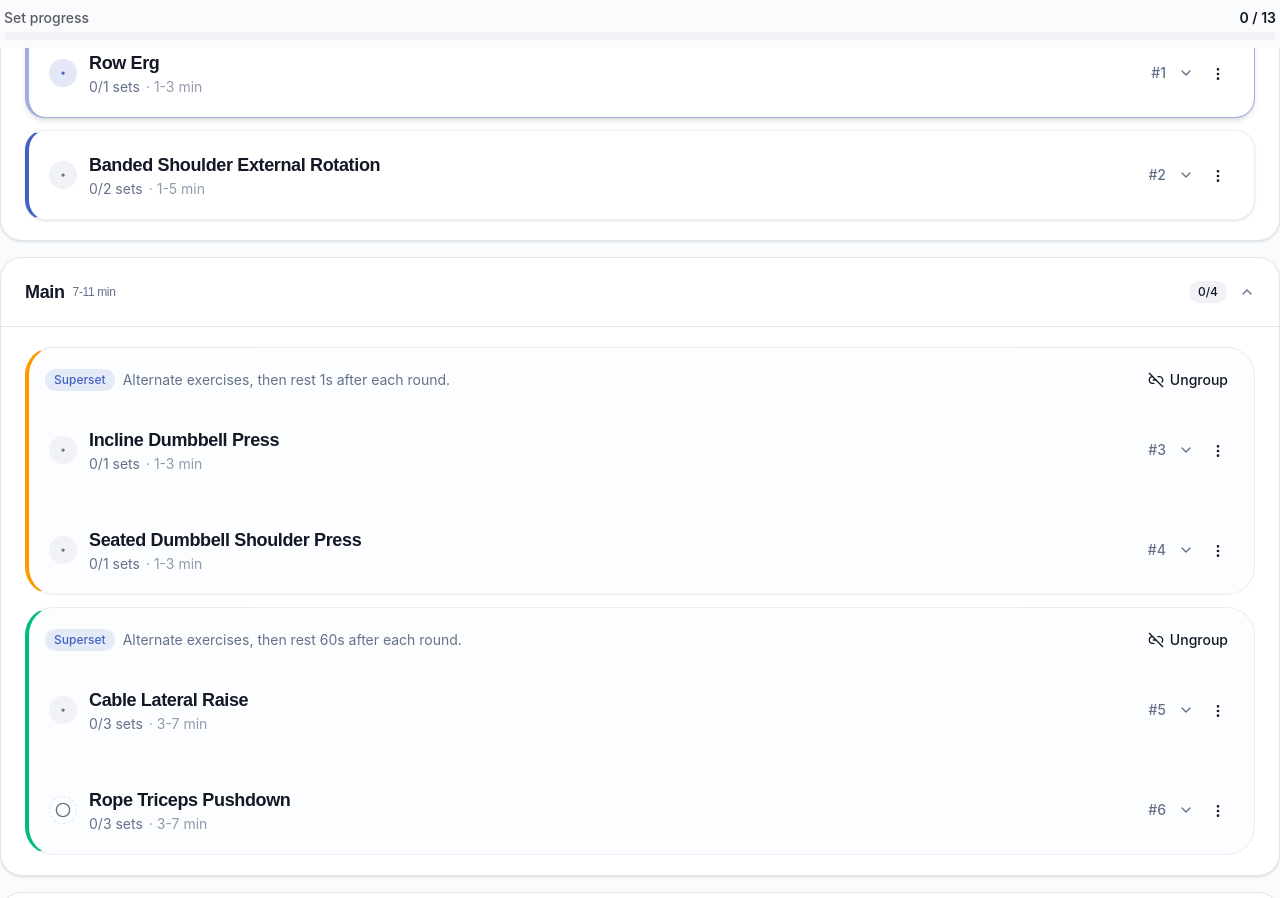
Test case: ActiveWorkoutPage › keeps focus unchanged when a superset rest timer expires
(page scrolled)
Click the button "Incline Dumbbell Press 0/1 sets· 1-3 min #3". click: [184, 440]
box: [49,430,1234,472]
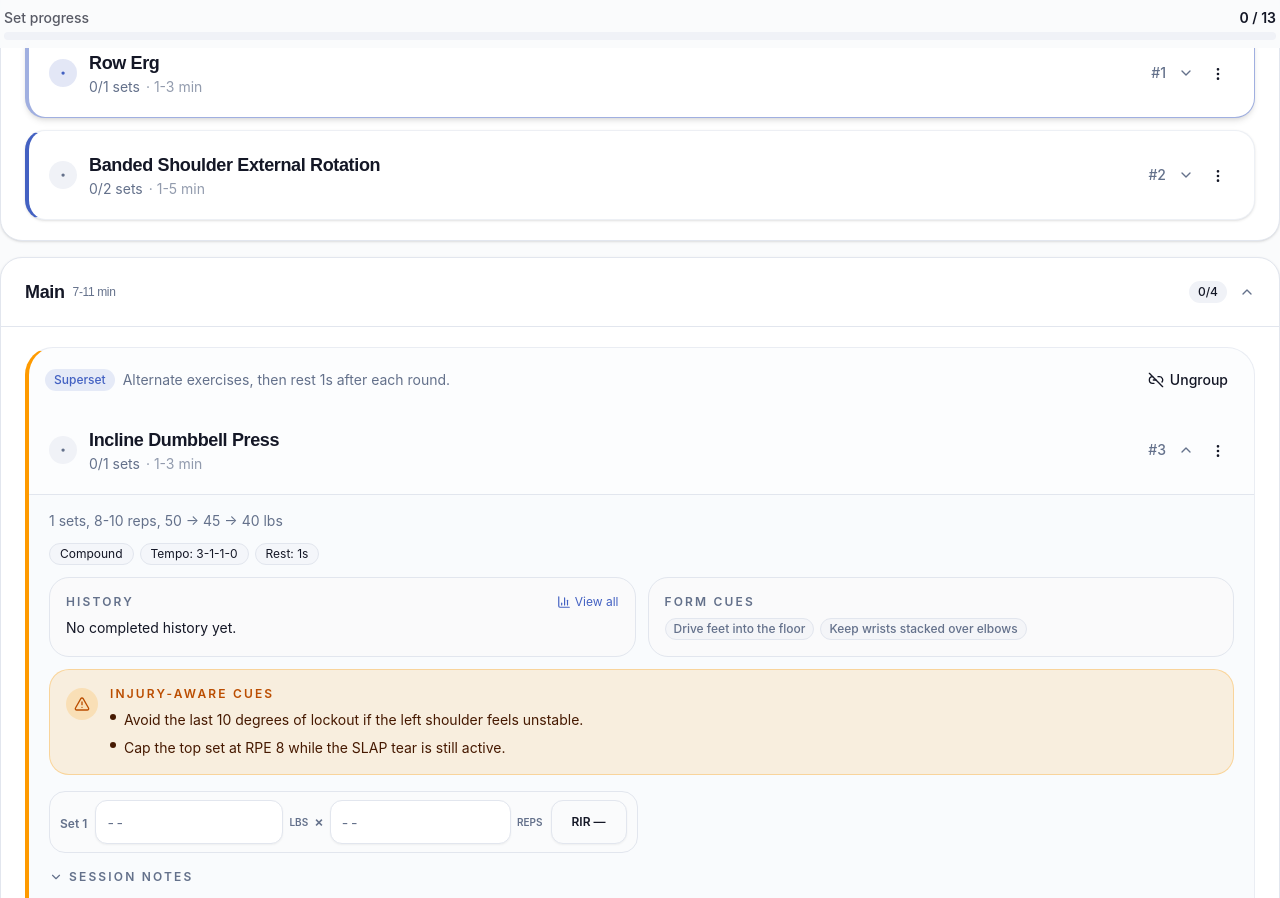
Type "50" into the number field named "Weight for set 1". click: [189, 822]
box: [95,800,283,844]
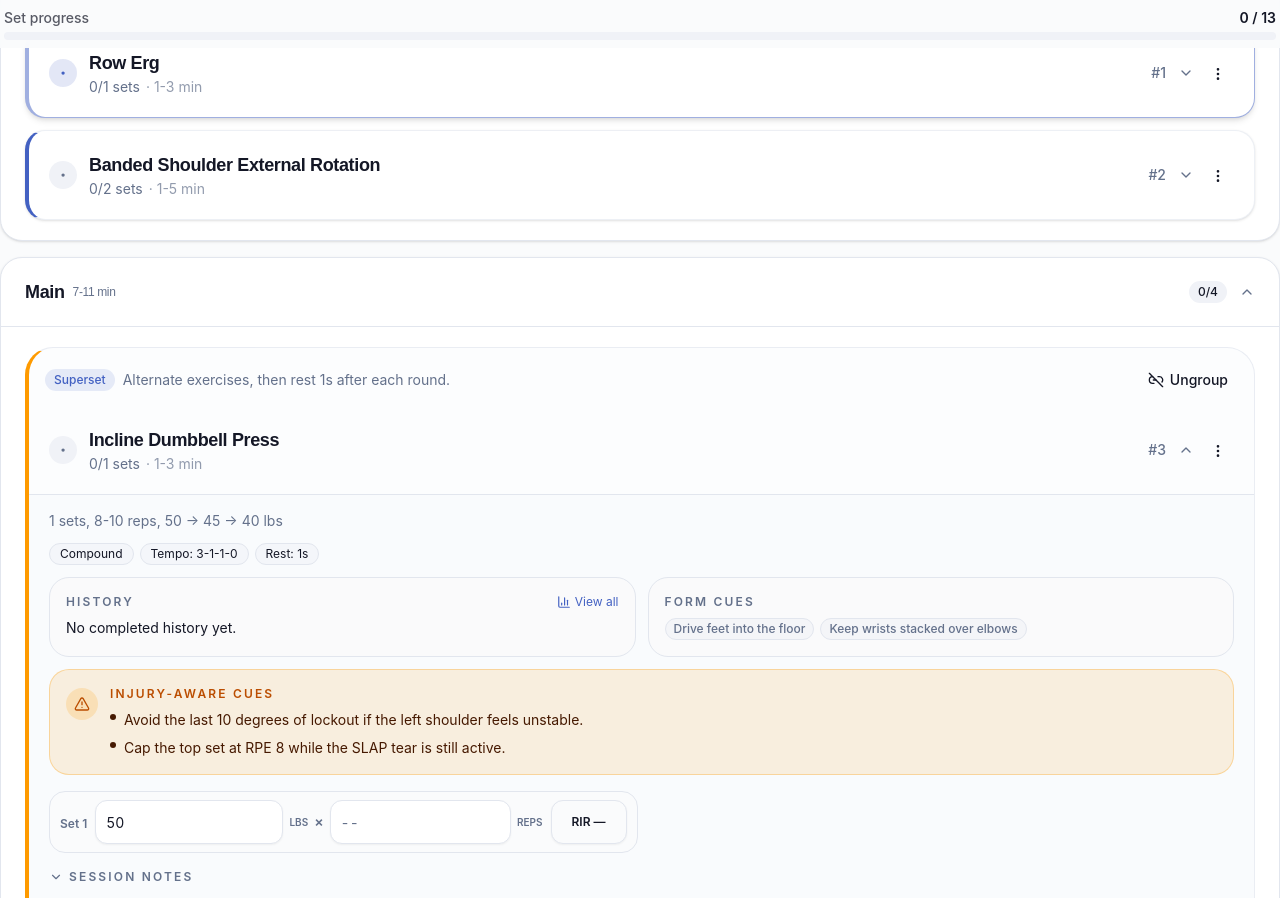
Type "10" into the number field named "Reps for set 1". click: [420, 822]
box: [330,800,511,844]
Wait 700 ms
(page scrolled)
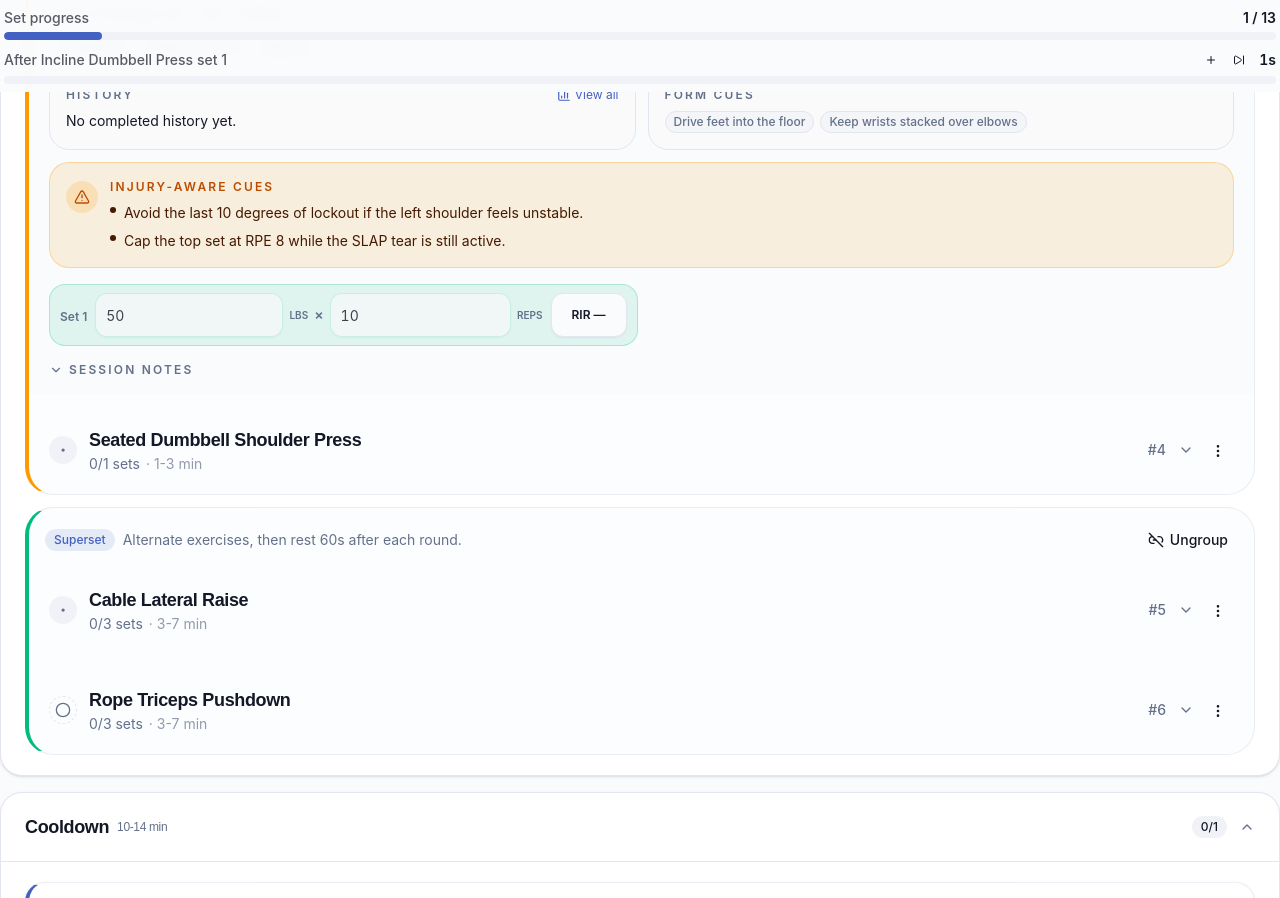
Expected: the text "After Incline Dumbbell Press set 1" is shown, [4,50,227,70]
Click the button "Seated Dumbbell Shoulder Press 0/1 sets· 1-3 min #4". click: [225, 440]
box: [49,430,1234,472]
Wait 1100 ms
(page scrolled)
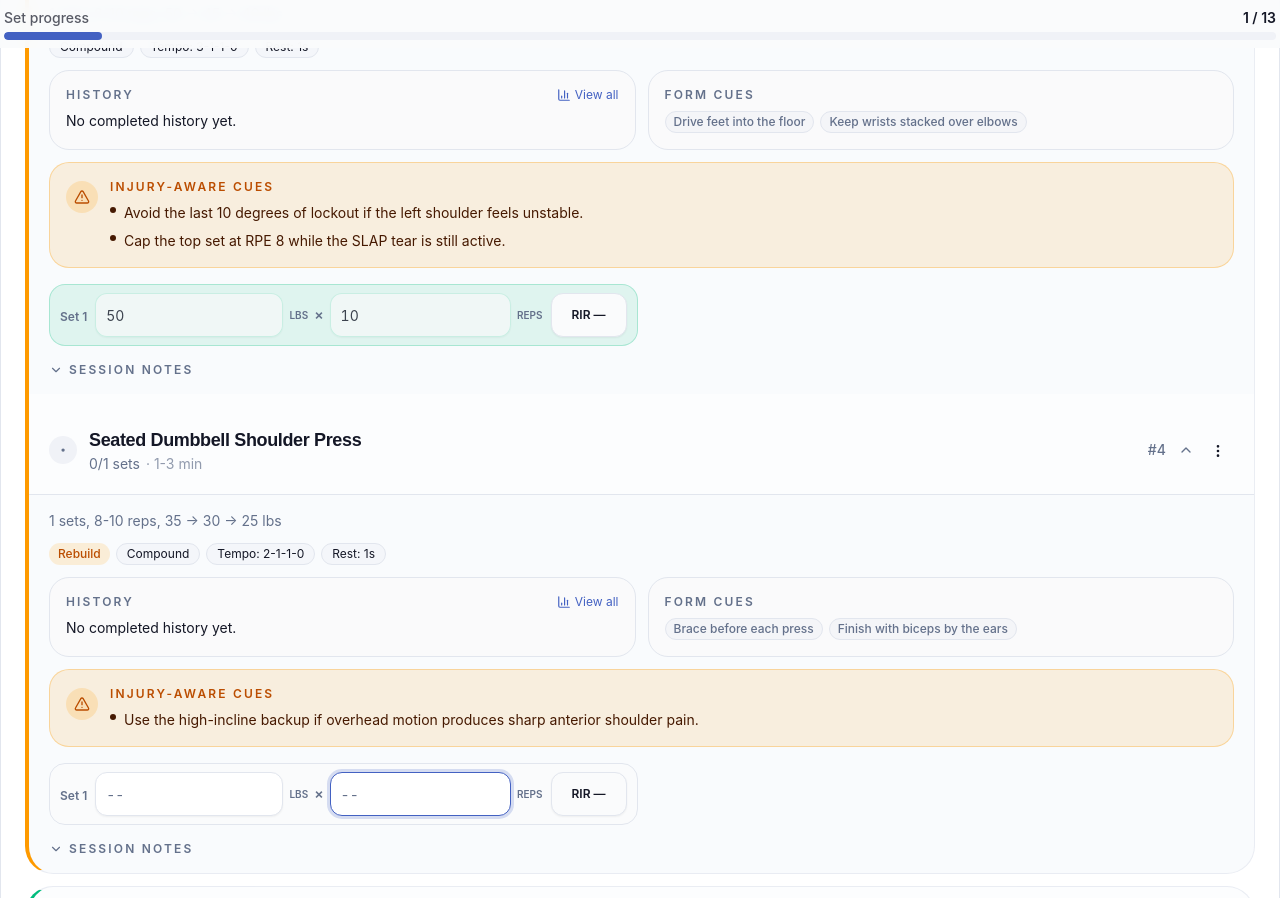
Expected: the text "After Incline Dumbbell Press set 1" is gone
